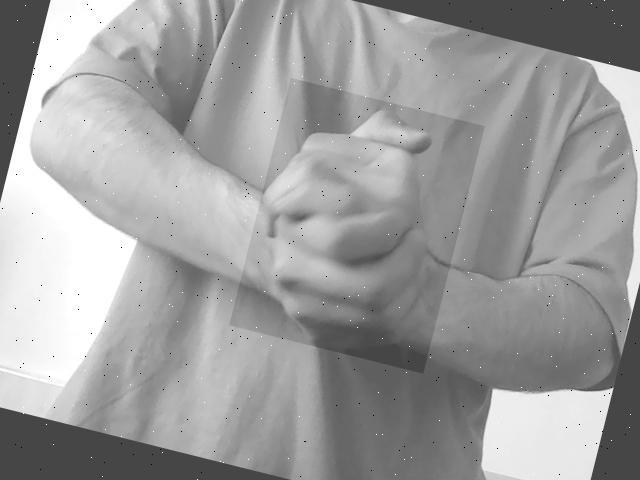friend: (263, 102, 450, 351)
